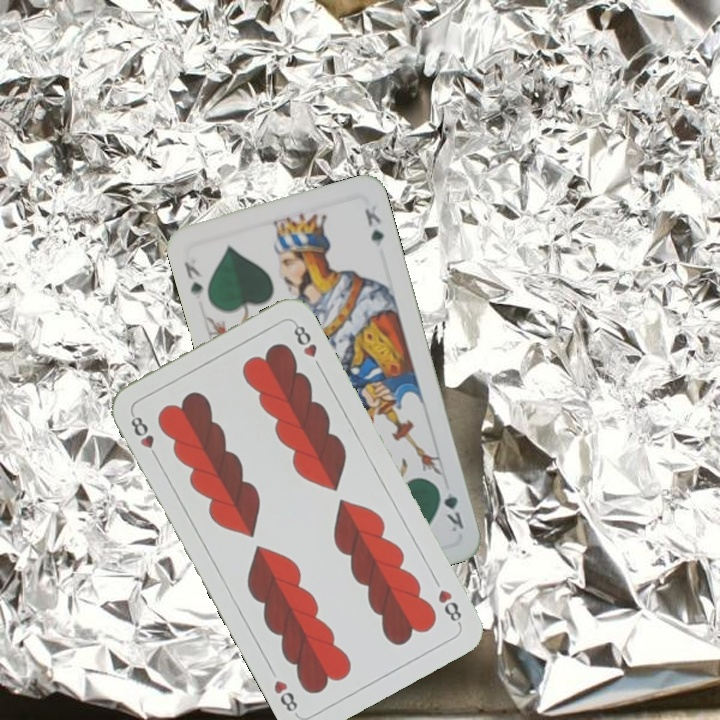GK: (433, 480, 467, 535), (180, 258, 206, 298)
H8: (126, 409, 162, 463), (434, 585, 464, 628)
